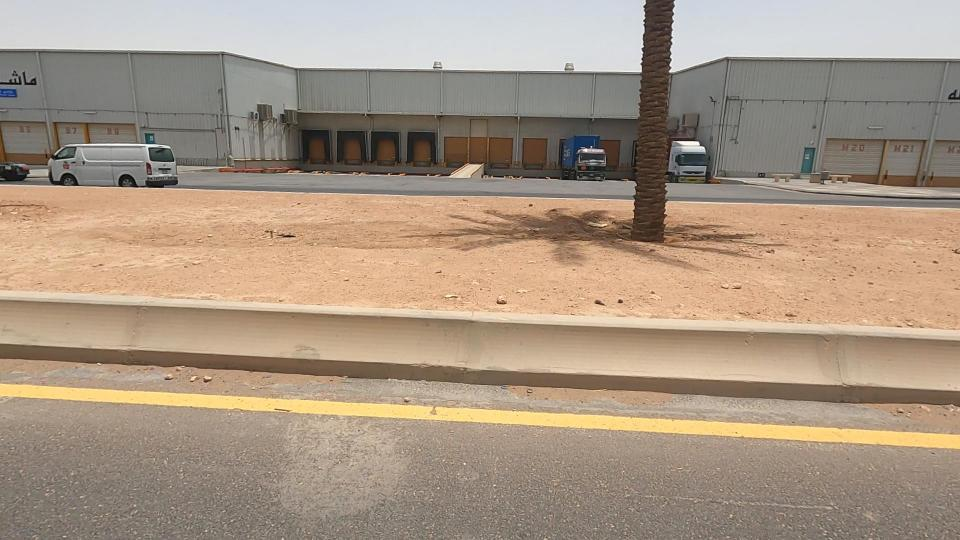CLUTTER_SIDEWALK: (257, 147, 960, 354), (0, 147, 613, 353)
